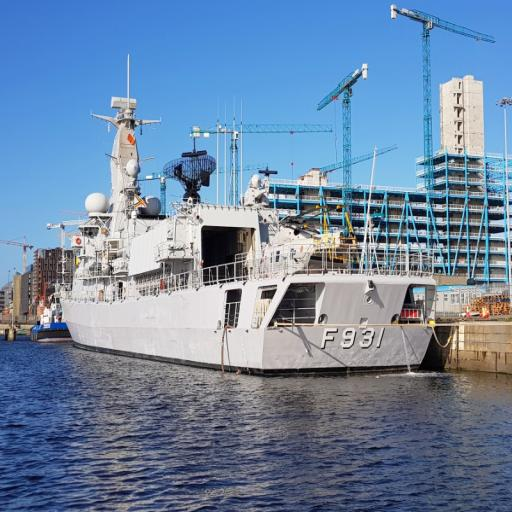Fragata: (55, 55, 440, 372)
